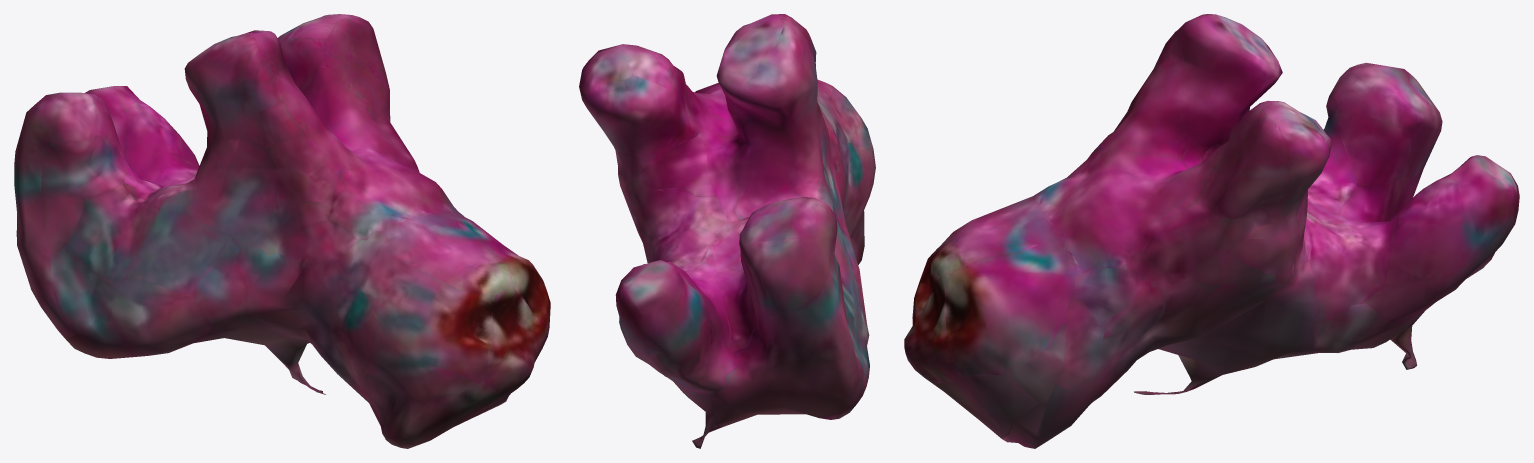
File: hall.glb
3 views of the same model, side by side, from view 1: azimuth 30°, elevation 25°; view 2: azimuth 150°, elevation 25°; view 3: azimuth 270°, elevation 25° (orthographic). The views are drawn at different scales.
Size of the model in its own units: 0.4393 by 0.43 by 0.6627.
Materials: 1 (1 with a texture image).
